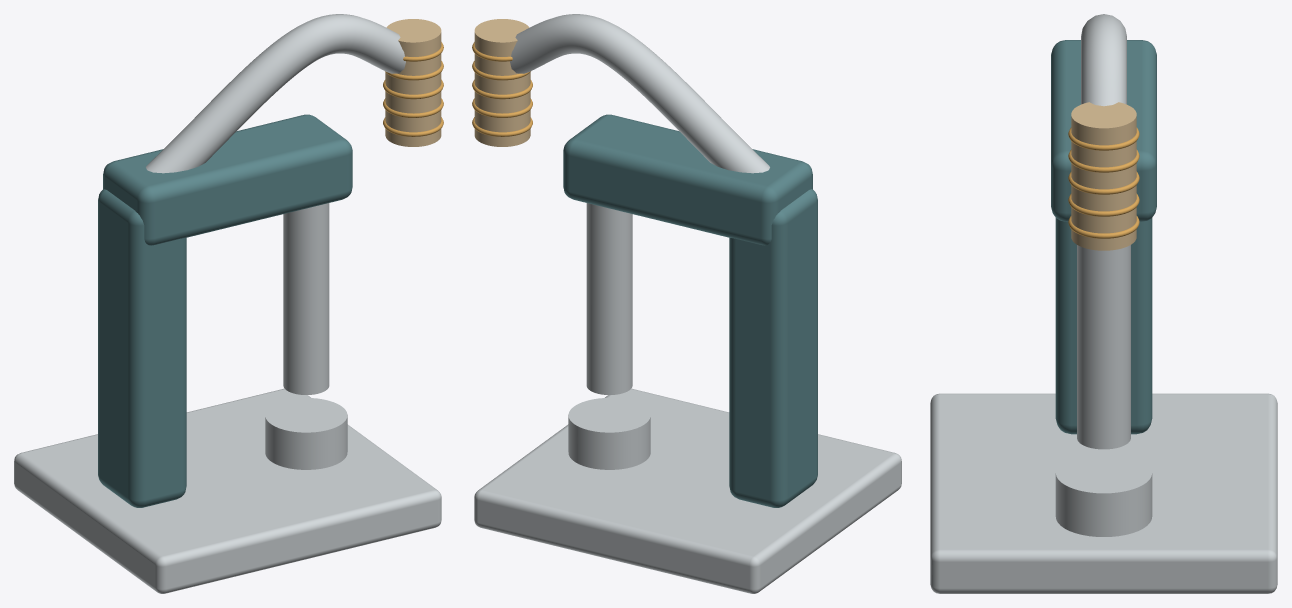
Rendered from candlemaking-and-soap-workshop-wick-tab-press-0218c7df__30655.glb.
The picture shows the model from 3 angles, left to right: view 1: azimuth 30°, elevation 25°; view 2: azimuth 150°, elevation 25°; view 3: azimuth 270°, elevation 25°; orthographic projection. The views are drawn at different scales.
Visible parts, largest first — view 1: wick-tab-press; view 2: wick-tab-press; view 3: wick-tab-press.
Part boxes in pixels (left/top/right/bottom): wick-tab-press: left=14, top=14, right=443, bottom=593; wick-tab-press: left=472, top=14, right=901, bottom=593; wick-tab-press: left=930, top=14, right=1277, bottom=593.
Bounding box in the file's own units: 0.2485 × 0.313 × 0.18.
